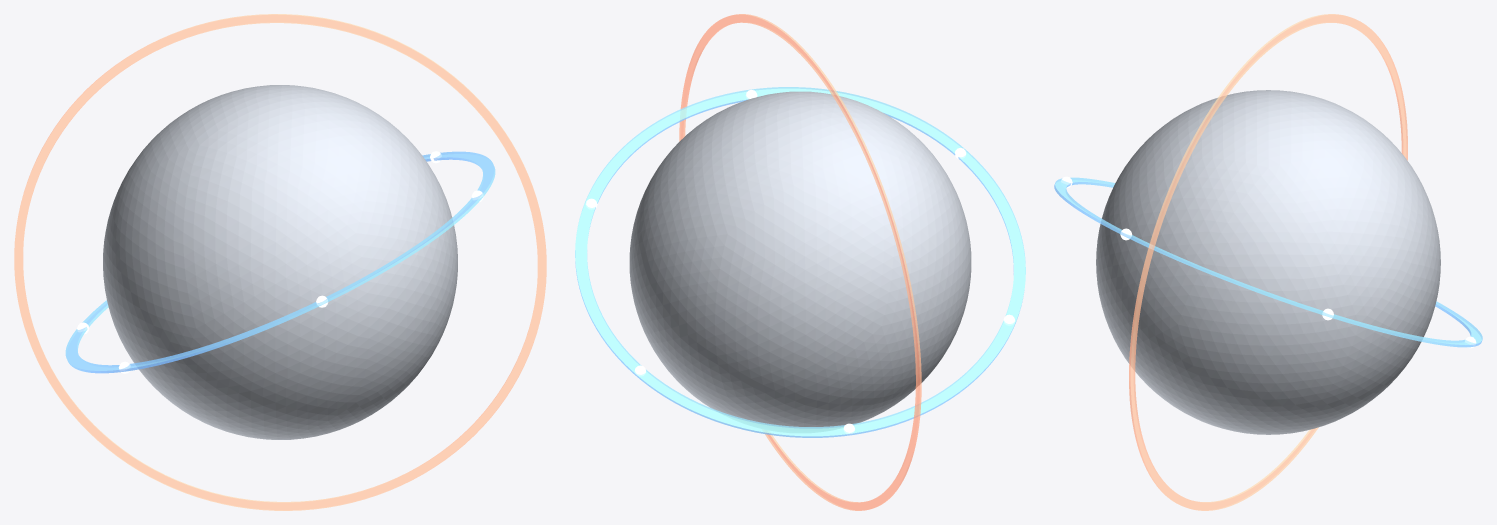
Rendered from ai-core.glb.
3 renders of one model, left to right at view 1: azimuth 30°, elevation 25°; view 2: azimuth 150°, elevation 25°; view 3: azimuth 270°, elevation 25°, orthographic. The views are drawn at different scales.
Parts seen in each view (by area): view 1: glass_shell, ring_coral, ring_blue, world; view 2: glass_shell, ring_blue, ring_coral, world; view 3: glass_shell, ring_coral, ring_blue.
Boxes of the visible parts, left/top/right/bottom form: glass_shell: left=103, top=85, right=457, bottom=439; ring_coral: left=14, top=14, right=546, bottom=510; ring_blue: left=65, top=151, right=495, bottom=373; world: left=77, top=151, right=483, bottom=373; glass_shell: left=629, top=91, right=971, bottom=432; ring_blue: left=575, top=87, right=1025, bottom=437; ring_coral: left=679, top=14, right=921, bottom=510; world: left=585, top=89, right=1015, bottom=434; glass_shell: left=1096, top=90, right=1440, bottom=434; ring_coral: left=1129, top=14, right=1407, bottom=510; ring_blue: left=1054, top=177, right=1482, bottom=347.
Bounding box in the file's own units: 2.55 × 2.99 × 2.49.
